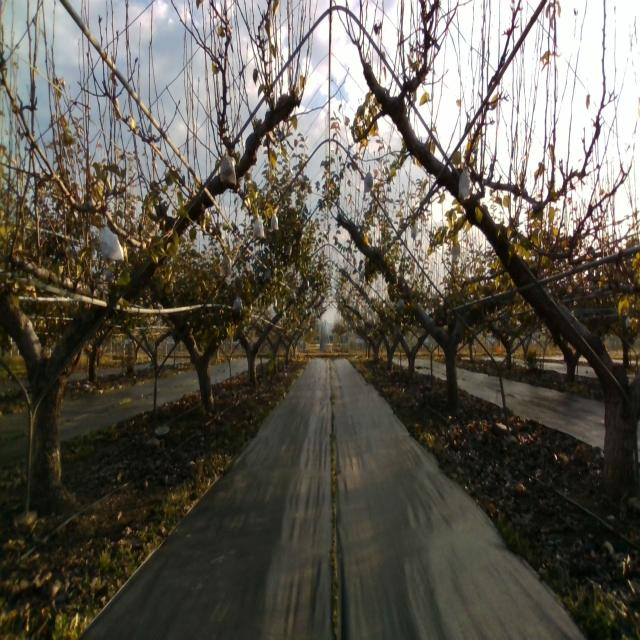pearbags: (100, 215, 124, 261), (220, 147, 237, 185), (458, 167, 473, 204), (253, 214, 265, 239), (363, 164, 373, 193)
